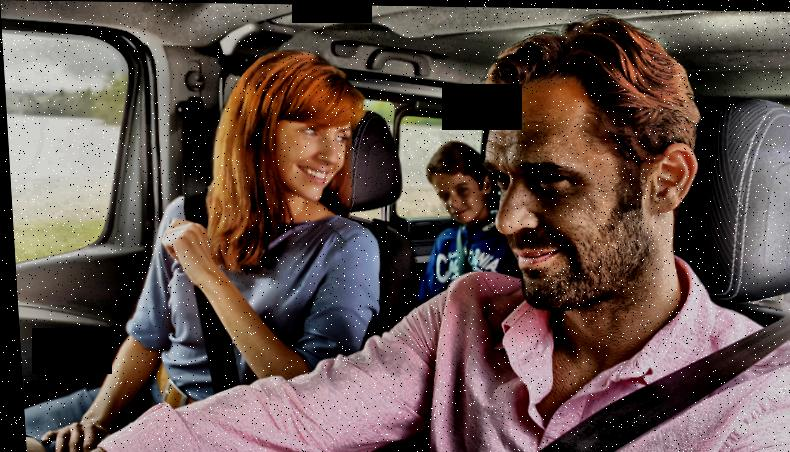seatbelt: (516, 287, 790, 452), (165, 95, 237, 382), (445, 216, 468, 276)
